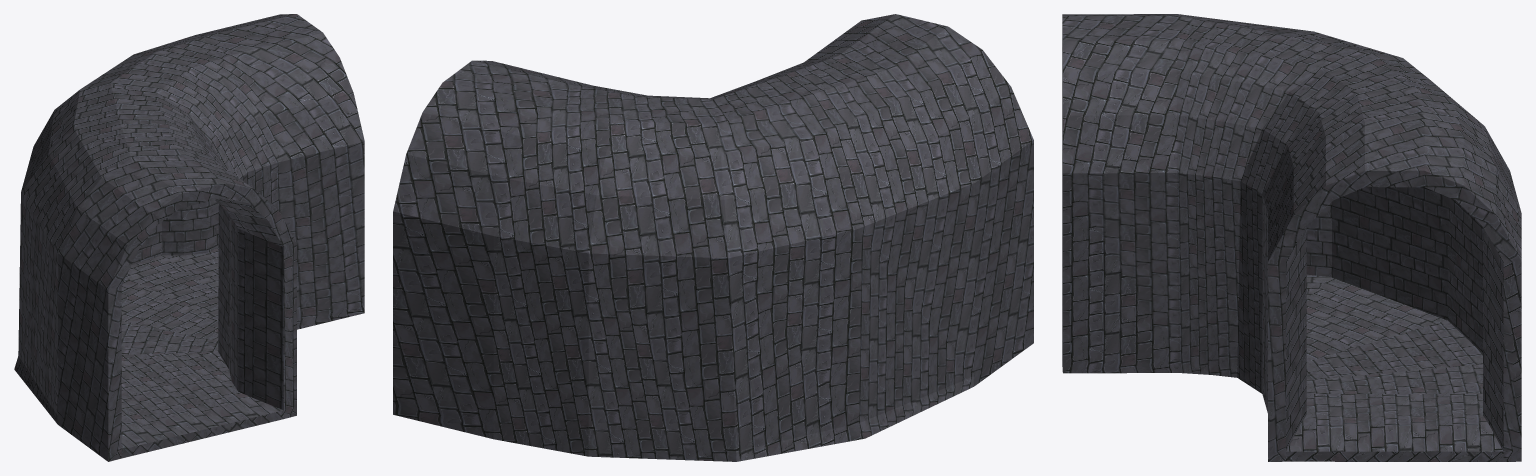
File: dungeonsCorner.fbx
The picture shows the model from 3 angles, left to right: view 1: azimuth 30°, elevation 25°; view 2: azimuth 150°, elevation 25°; view 3: azimuth 270°, elevation 25°; orthographic projection. The views are drawn at different scales.
Visible parts, largest first — view 1: DungedonCorner; view 2: DungedonCorner; view 3: DungedonCorner.
Boxes of the visible parts, <box> form: DungedonCorner: <box>14,14,364,461</box>; DungedonCorner: <box>393,14,1033,461</box>; DungedonCorner: <box>1062,14,1521,461</box>.
Size of the model in its own units: 8.42 by 5.9 by 8.34.
